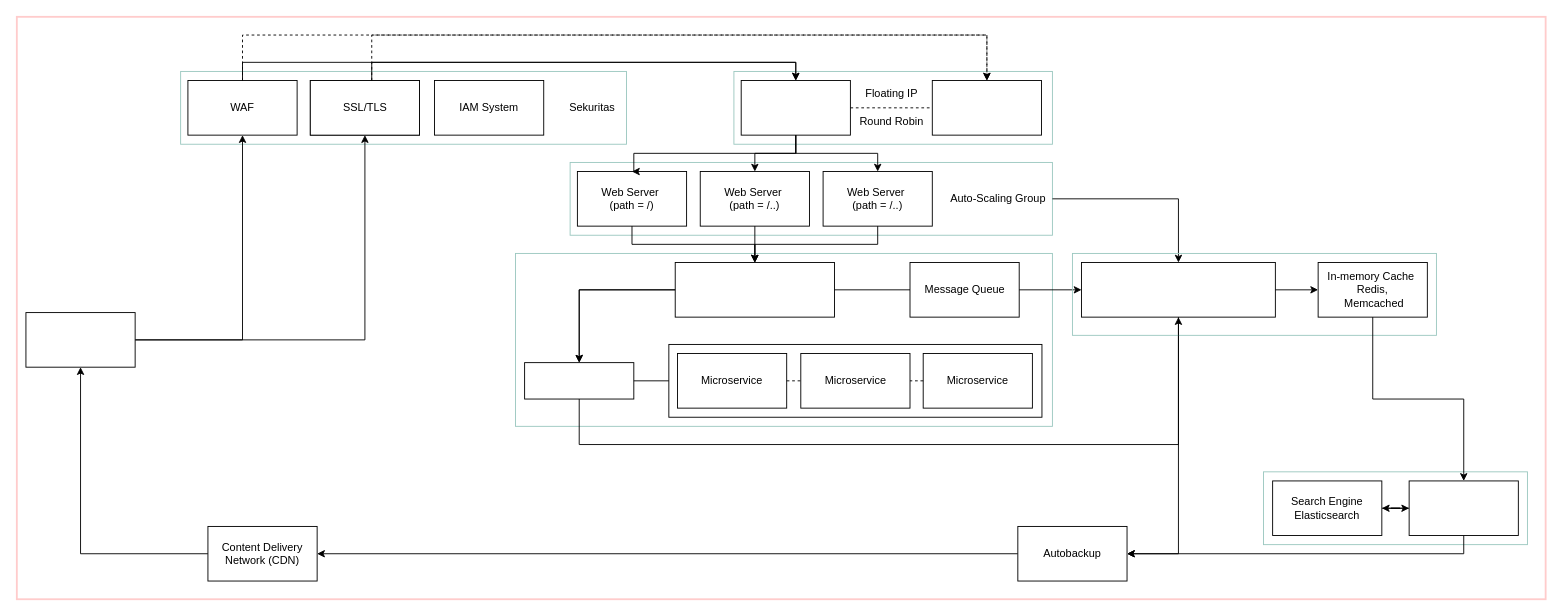
The diagram is 1562 pixels wide and 615 high, and some of its shapes have lost their labels. The centre of each missing label's shape, as x and y in pixels:
Client: point 80,339
Container Orchestration Docker, kubernetes: point 754,289
Database Cluster (MySQL, NoSQL): point 1178,289
Load balancer: point 795,107
Load balancer Pasif: point 986,107
Mesh Service: point 579,380
Monitoring dan Logging Grafana, Prometheus: point 1463,508
